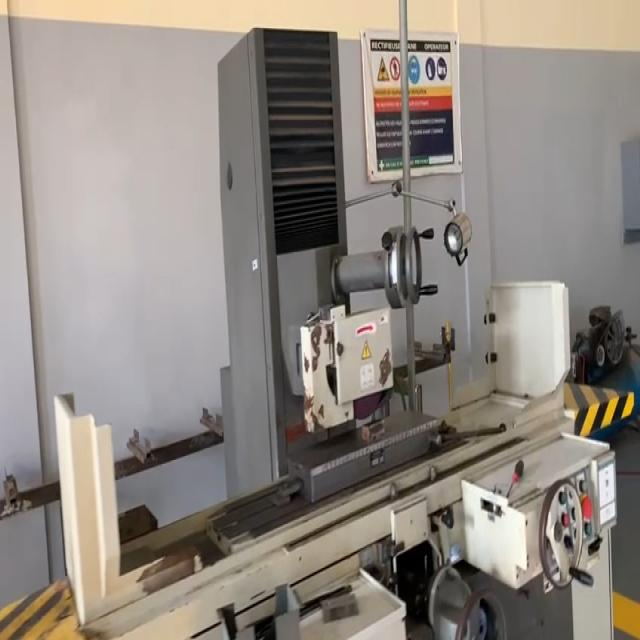fraiseuse: (18, 28, 638, 640)
